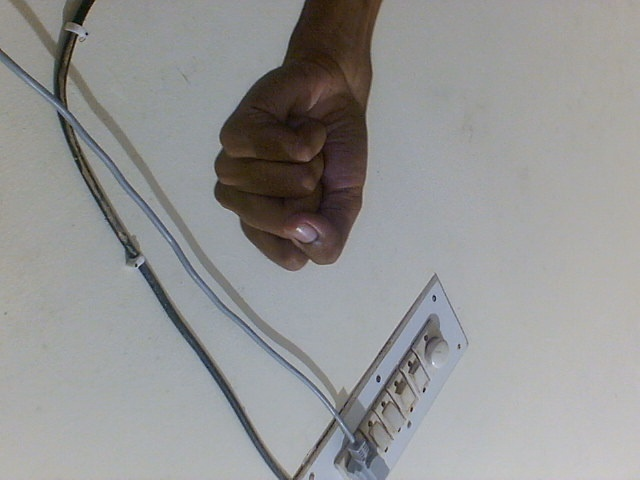hand: (203, 43, 375, 278)
